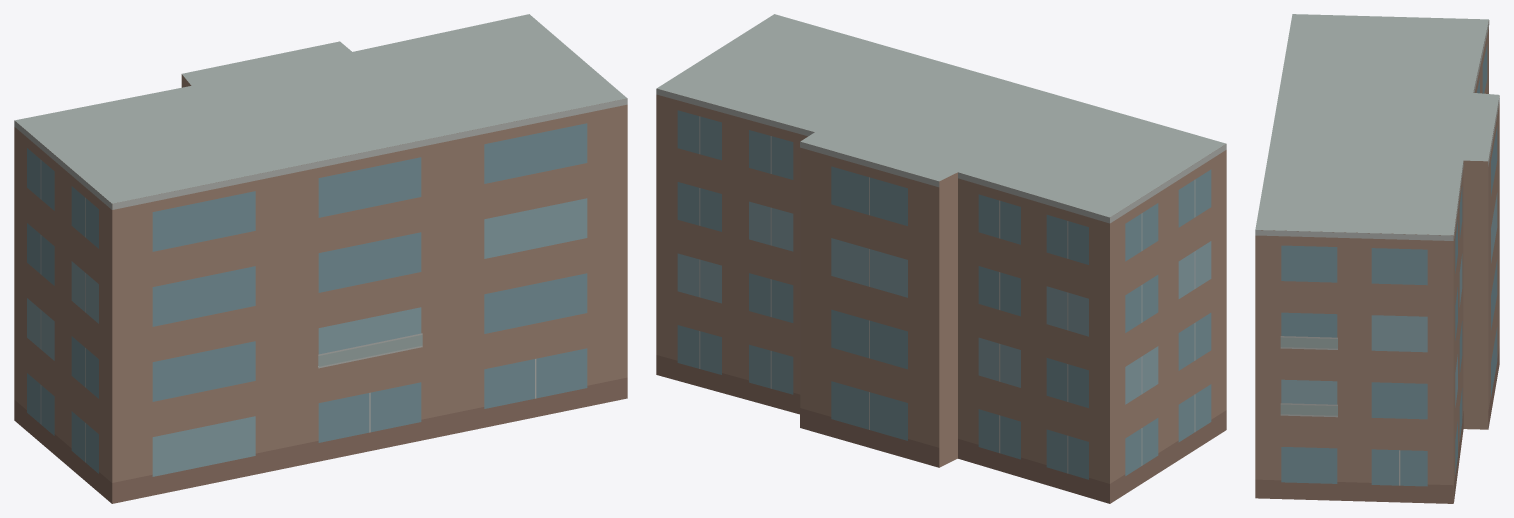
File: survey-upis-32868511.glb
3 views of the same model, side by side, from view 1: azimuth 30°, elevation 25°; view 2: azimuth 150°, elevation 25°; view 3: azimuth 270°, elevation 25° (orthographic). The views are drawn at different scales.
Visible parts, largest first — view 1: survey-upis-32868511.tmp; view 2: survey-upis-32868511.tmp; view 3: survey-upis-32868511.tmp.
Boxes of the visible parts, box(x1,y1,x2,y2) form: survey-upis-32868511.tmp: box(14, 14, 627, 503); survey-upis-32868511.tmp: box(656, 14, 1226, 503); survey-upis-32868511.tmp: box(1255, 14, 1499, 503).
Bounding box in the file's own units: 20.71 × 11.7 × 9.67.
